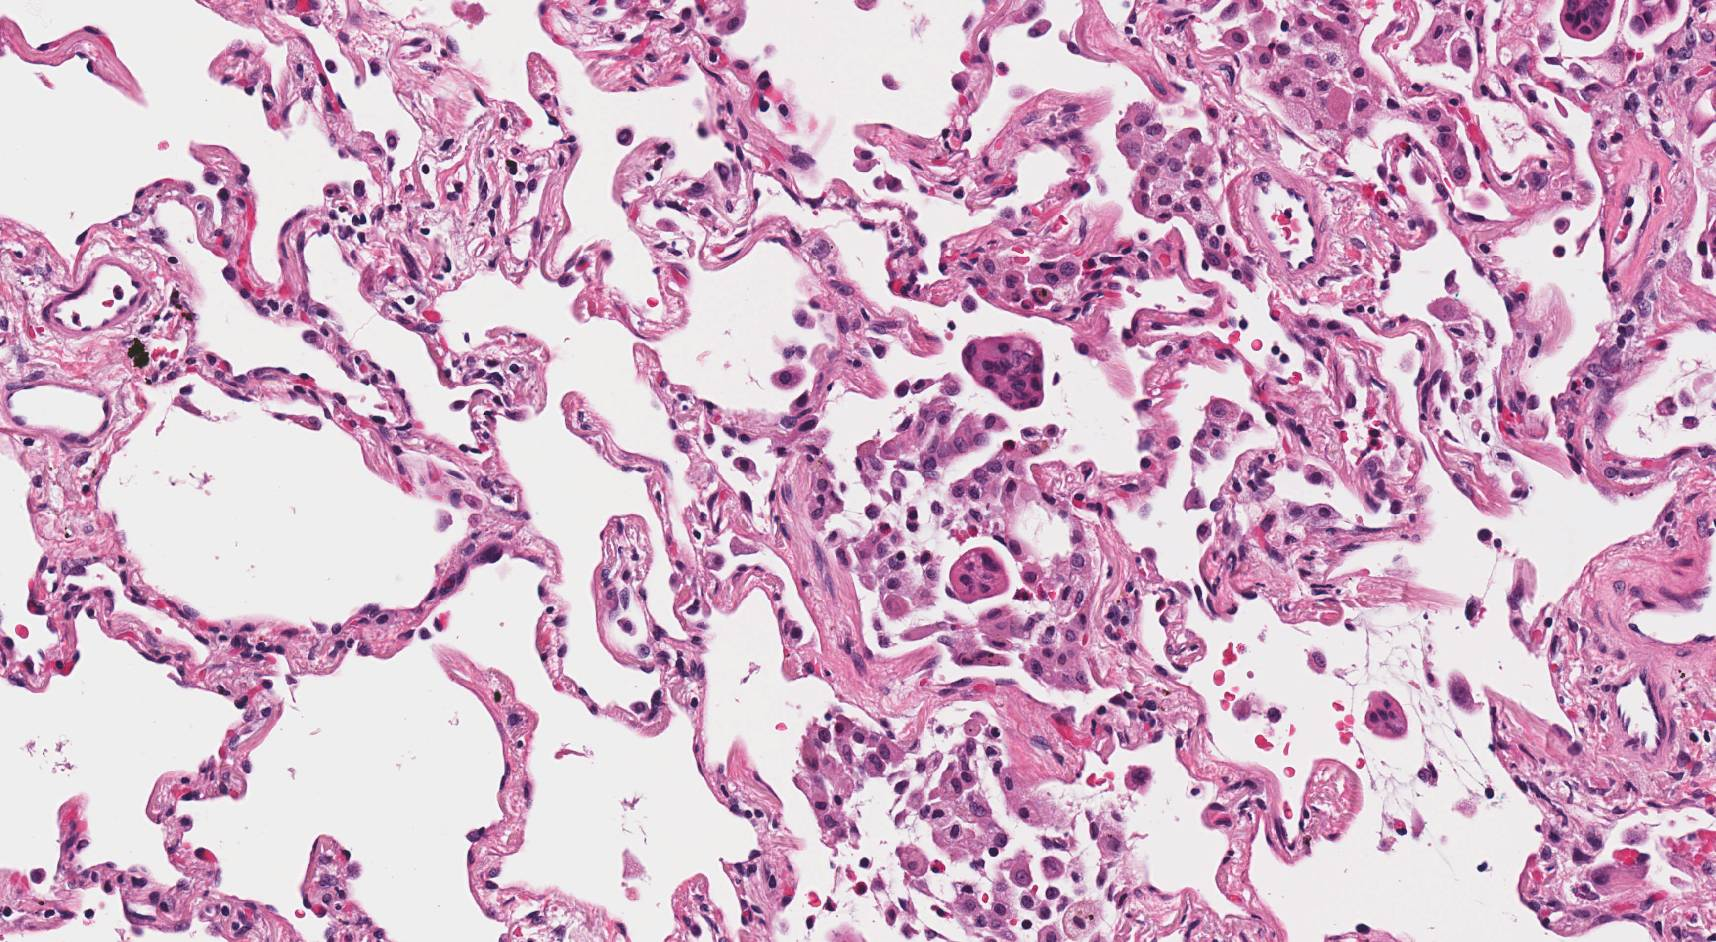stas: (960, 334, 1046, 412), (947, 545, 1010, 602)
